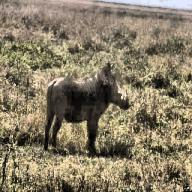boar: (43, 62, 130, 156)
